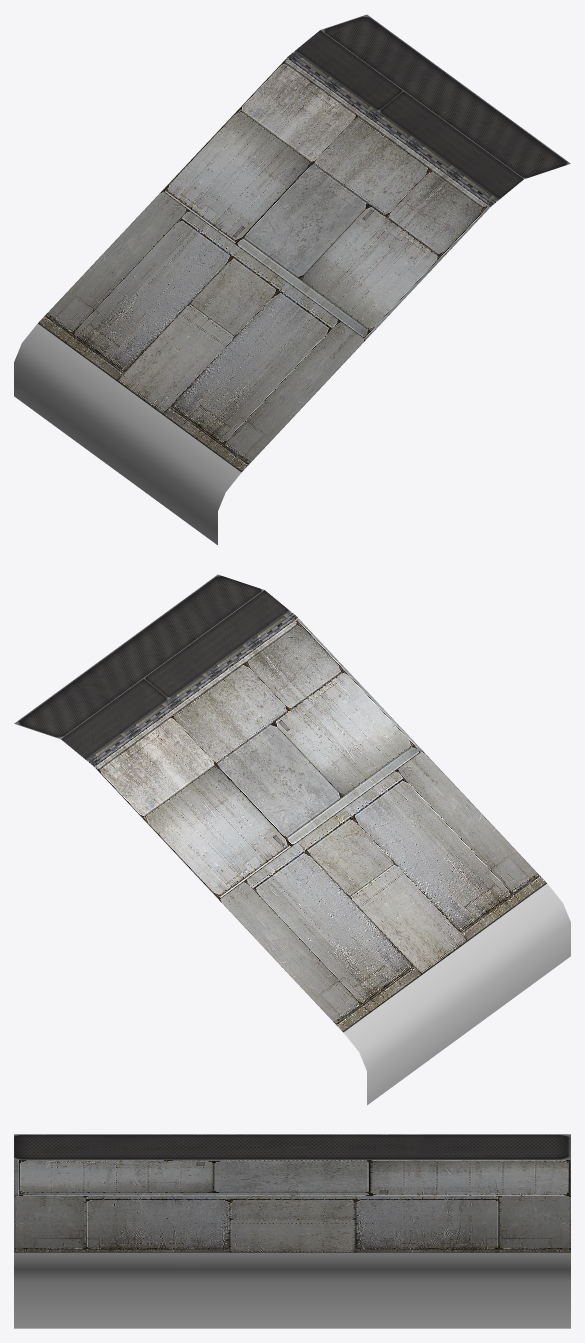
Rendered from Roof_A_Big4mts09.fbx.
The picture shows the model from 3 angles, top to bottom: view 1: azimuth 30°, elevation 25°; view 2: azimuth 150°, elevation 25°; view 3: azimuth 270°, elevation 25°; orthographic projection. The views are drawn at different scales.
Visible parts, largest first — view 1: Roof_A_Big4mts09; view 2: Roof_A_Big4mts09; view 3: Roof_A_Big4mts09.
Part boxes in pixels (x1=…): Roof_A_Big4mts09: x1=14, y1=14, x2=570, y2=545; Roof_A_Big4mts09: x1=14, y1=574, x2=570, y2=1105; Roof_A_Big4mts09: x1=14, y1=1134, x2=570, y2=1328.
Bounding box in the file's own units: 500 × 400 × 500.
